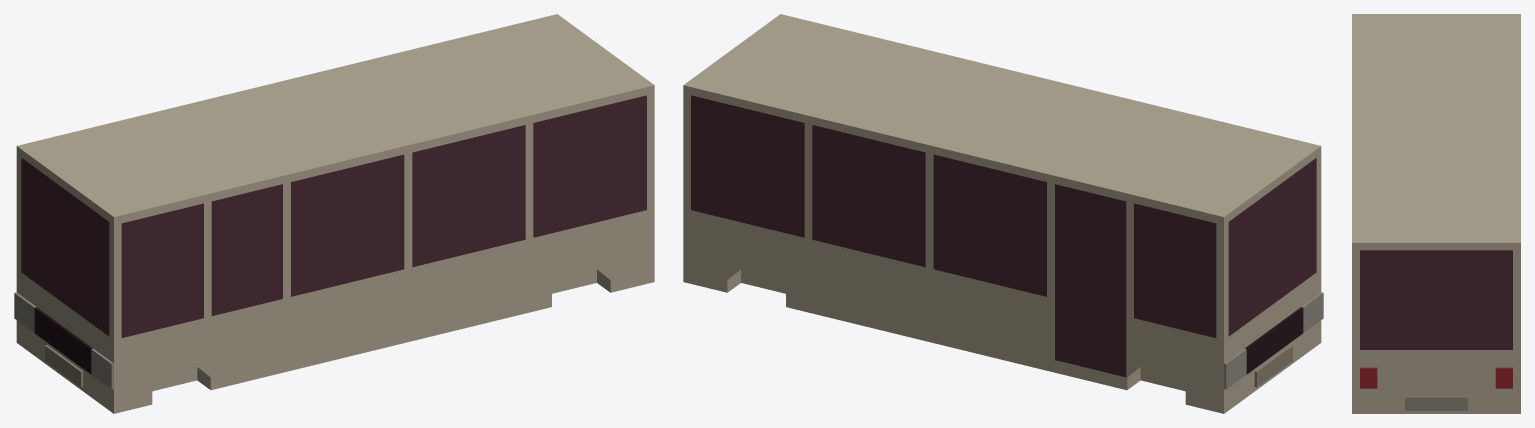
File: Bus_White.fbx
3 renders of one model, left to right at view 1: azimuth 30°, elevation 25°; view 2: azimuth 150°, elevation 25°; view 3: azimuth 270°, elevation 25°, orthographic. The views are drawn at different scales.
Parts seen in each view (by area): view 1: Bus_White, Bus_Lights; view 2: Bus_White, Bus_Lights; view 3: Bus_White, Bus_Lights.
Part boxes in pixels (x1,y1,x2,y2): Bus_White: (16,14,654,413); Bus_Lights: (14,292,113,389); Bus_White: (683,14,1321,413); Bus_Lights: (1224,292,1323,389); Bus_White: (1352,14,1520,413); Bus_Lights: (1360,367,1512,388).
Bounding box in the file's own units: 6.96 × 2.4 × 2.15.
